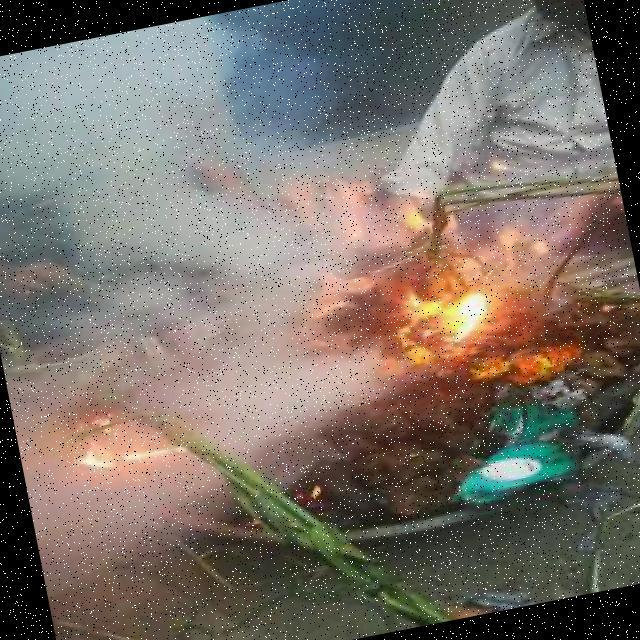Fire: (327, 151, 476, 276), (57, 415, 206, 482), (384, 281, 504, 363), (478, 207, 566, 279), (468, 337, 586, 390)
Smoke: (0, 4, 358, 434), (185, 364, 409, 513)
